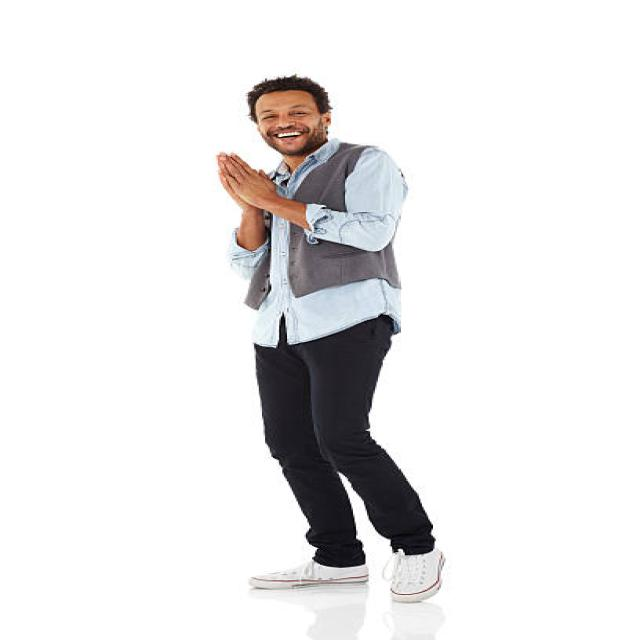Edited images: (173, 57, 486, 614)
